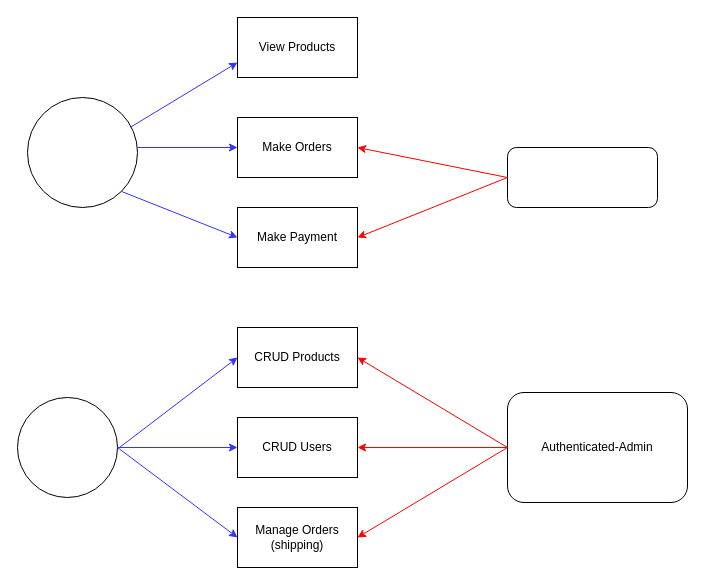
Some shapes in this 705 by 585 pixel diagram are drawn without their labels. Each missing label, with the box of its shape:
Admin: (16, 396, 118, 498)
Authenticated: (506, 146, 658, 208)
User: (26, 96, 138, 208)
